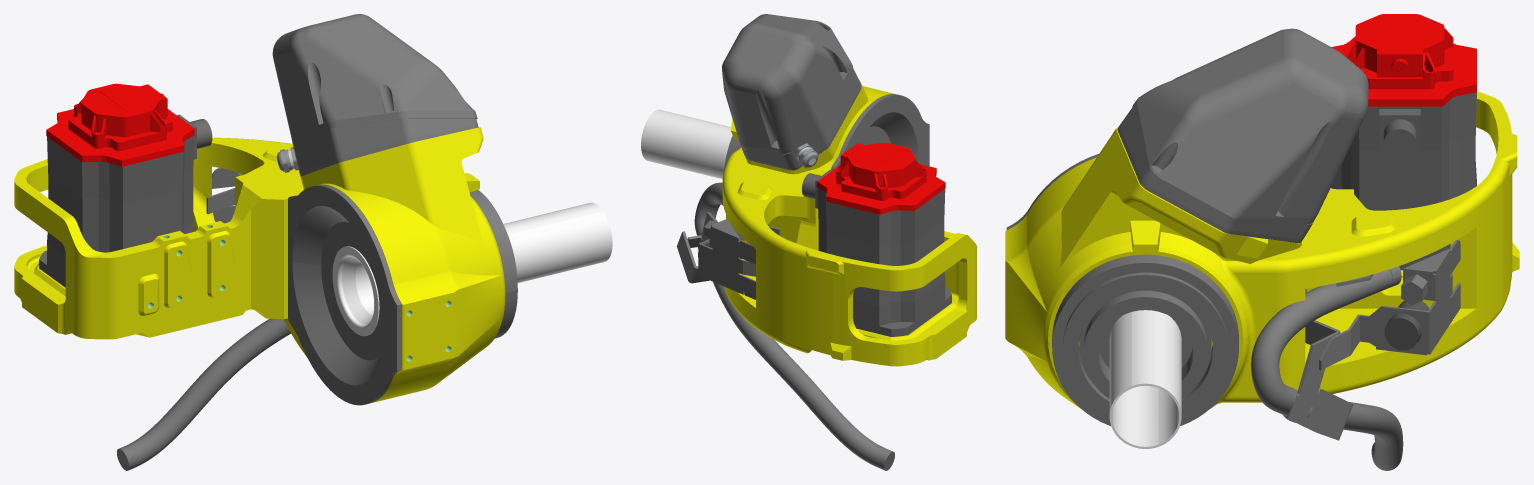
3 renders of one model, left to right at view 1: azimuth 30°, elevation 25°; view 2: azimuth 150°, elevation 25°; view 3: azimuth 270°, elevation 25°, orthographic. The views are drawn at different scales.
Parts seen in each view (by area): view 1: Mesh_0; view 2: Mesh_0; view 3: Mesh_0.
Boxes of the visible parts, x1=… form: Mesh_0: x1=14, y1=14, x2=612, y2=470; Mesh_0: x1=641, y1=14, x2=976, y2=470; Mesh_0: x1=1005, y1=14, x2=1519, y2=470.
Size of the model in its own units: 0.5206 by 0.483 by 0.4345.
